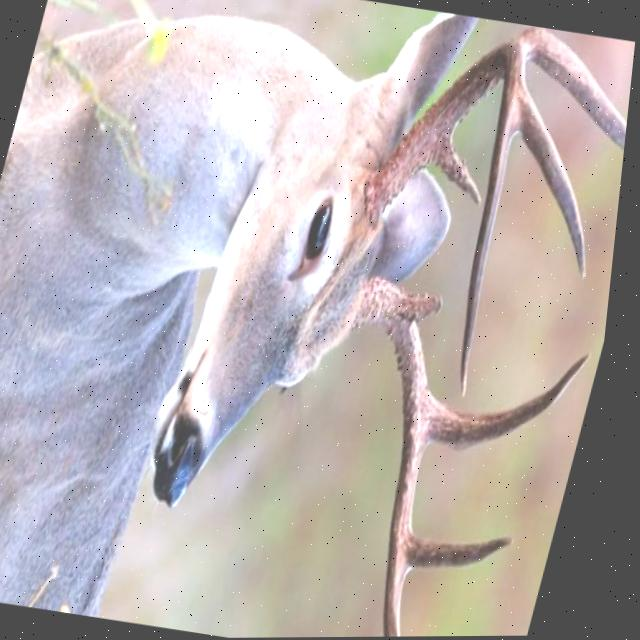L-F: (356, 275, 438, 637)
L-G1: (406, 291, 449, 325)
L-G2: (431, 353, 598, 454)
L-G3: (416, 535, 525, 572)
R-F: (367, 35, 526, 399)
R-G1: (434, 132, 486, 209)
R-G2: (519, 27, 630, 154)
R-G3: (514, 80, 592, 282)
